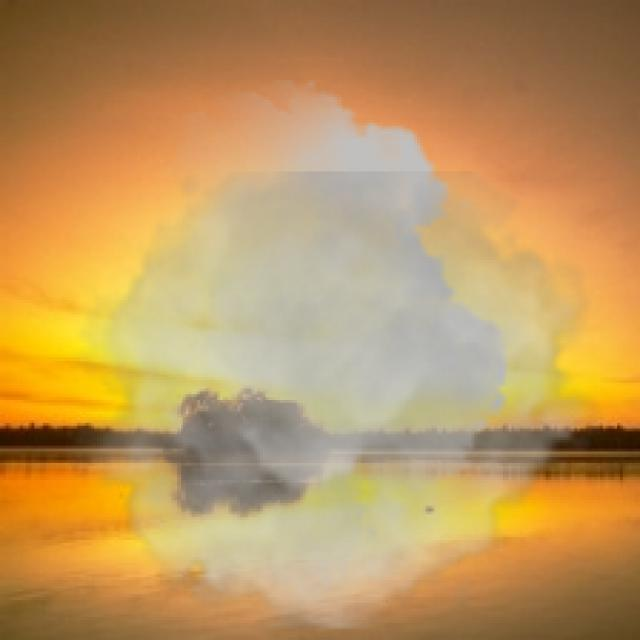Smoke: (66, 80, 608, 629)
